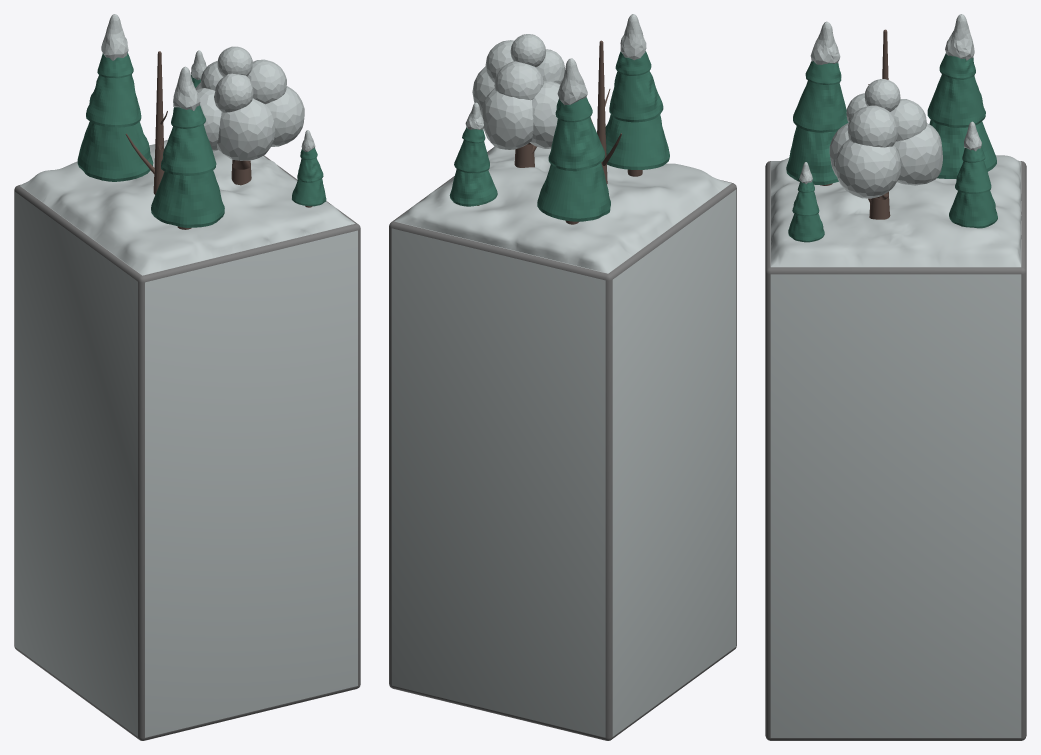
The model's file is tile4.fbx.
3 renders of one model, left to right at view 1: azimuth 30°, elevation 25°; view 2: azimuth 150°, elevation 25°; view 3: azimuth 270°, elevation 25°, orthographic.
Visible parts, largest first — view 1: ель.031; view 2: ель.031; view 3: ель.031.
Boxes of the visible parts, x1,y1,x2,y2 form: ель.031: (14,14,360,740); ель.031: (389,14,736,740); ель.031: (765,14,1026,740).
Bounding box in the file's own units: 200 × 552 × 200.
